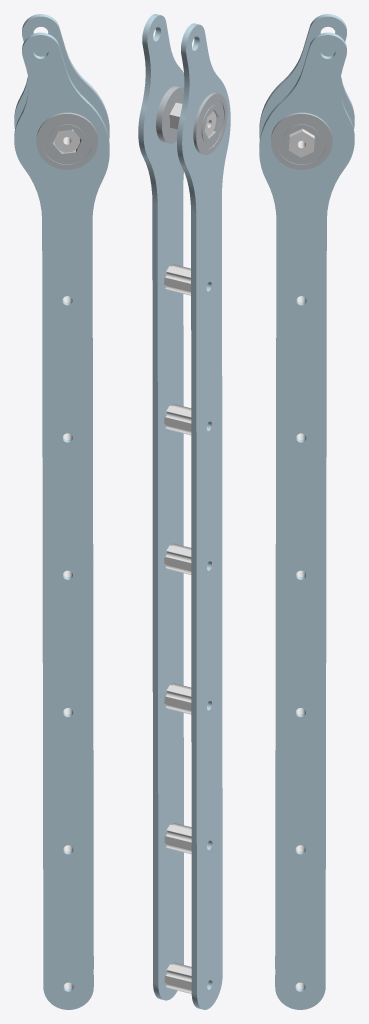
3 renders of one model, left to right at view 1: azimuth 90°, elevation 25°; view 2: azimuth 150°, elevation 25°; view 3: azimuth 270°, elevation 25°, orthographic.
Visible parts, largest first — view 1: Model_5; view 2: Model_5; view 3: Model_5.
Boxes of the visible parts, x1=… form: Model_5: x1=14, y1=14, x2=109, y2=1009; Model_5: x1=138, y1=14, x2=230, y2=1009; Model_5: x1=259, y1=14, x2=354, y2=1009.
Bounding box in the file's own units: 0.0314 × 0.5412 × 0.0481.
